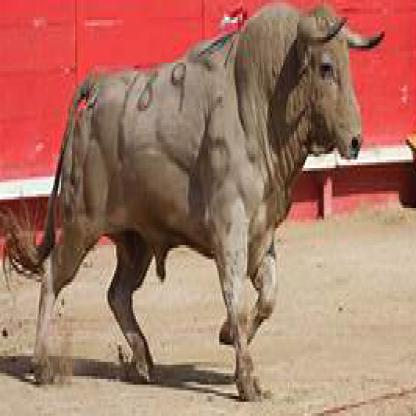cow: (11, 3, 386, 399)
